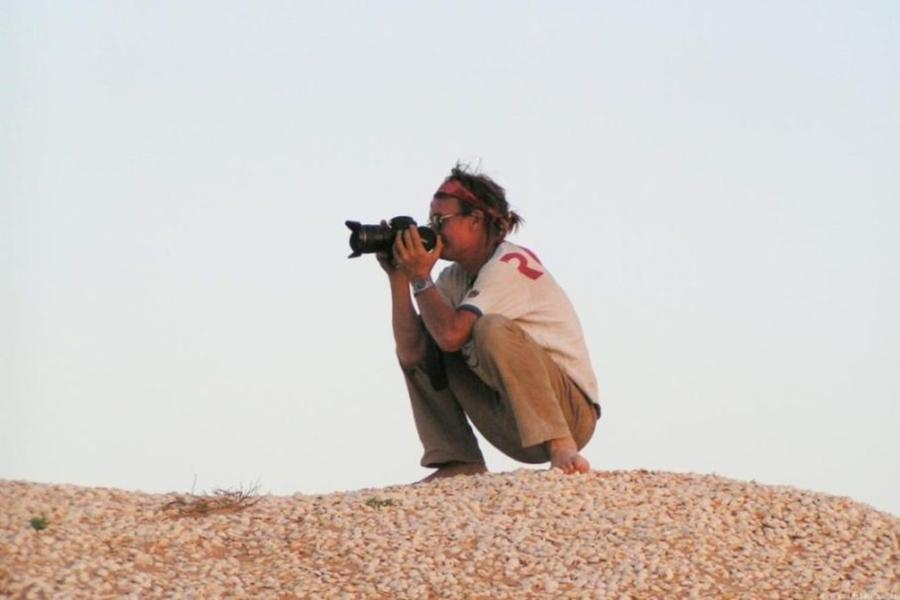person: (375, 168, 605, 482)
